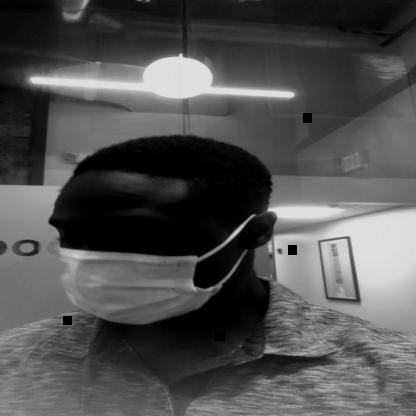mask: (50, 161, 275, 325)
